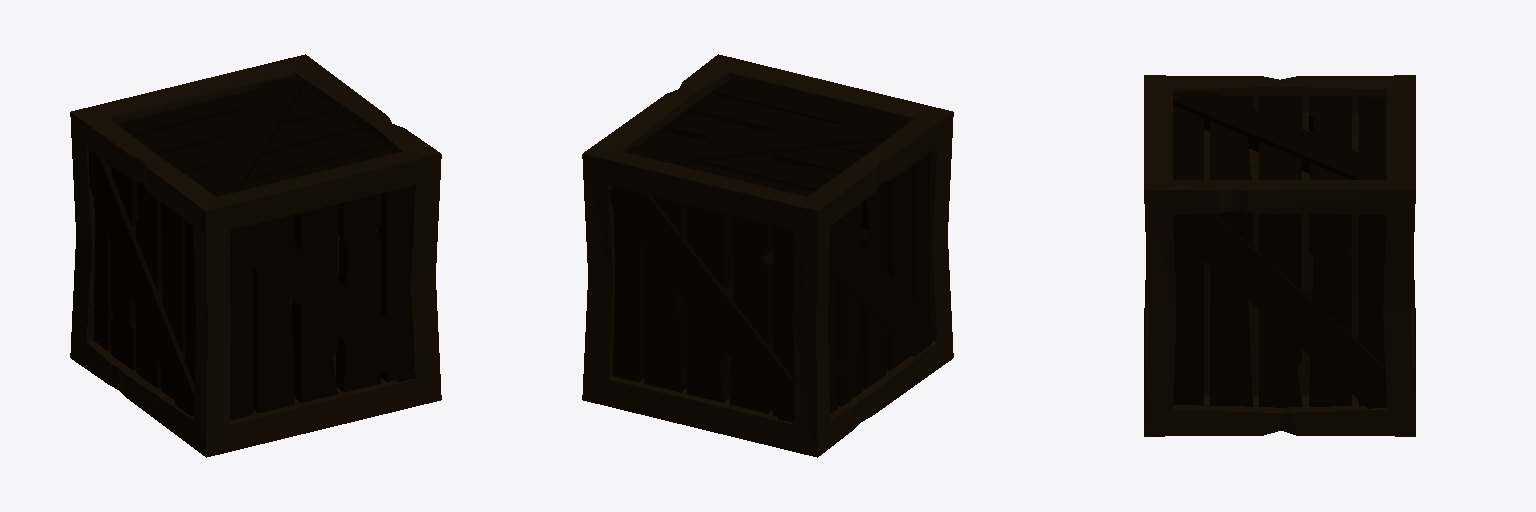
The model's file is Crate.obj.
The picture shows the model from 3 angles: view 1: azimuth 30°, elevation 25°; view 2: azimuth 150°, elevation 25°; view 3: azimuth 270°, elevation 25°; orthographic projection.
Parts seen in each view (by area): view 1: Crate_Cube.259; view 2: Crate_Cube.259; view 3: Crate_Cube.259.
Boxes of the visible parts, x1=… form: Crate_Cube.259: x1=70, y1=54, x2=441, y2=457; Crate_Cube.259: x1=582, y1=54, x2=953, y2=457; Crate_Cube.259: x1=1144, y1=75, x2=1415, y2=436.
Bounding box in the file's own units: 0.8239 × 0.824 × 0.824.